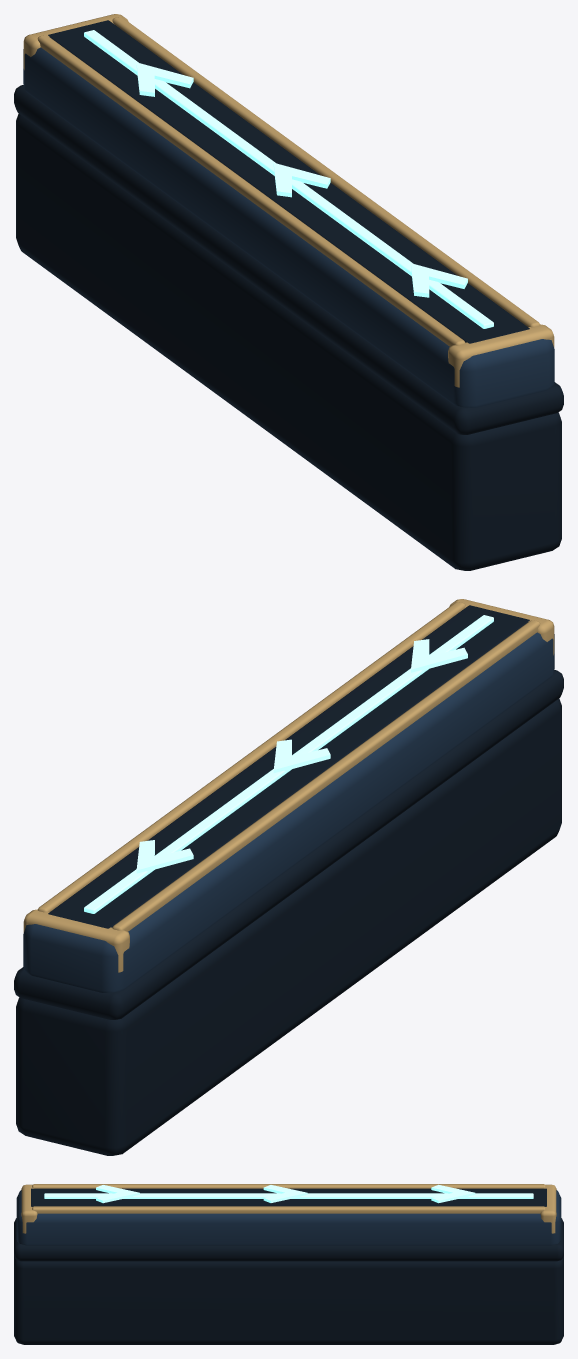
Rendered from lumo_guide_ribbon_2m.glb.
The picture shows the model from 3 angles, top to bottom: view 1: azimuth 30°, elevation 25°; view 2: azimuth 150°, elevation 25°; view 3: azimuth 270°, elevation 25°; orthographic projection. The views are drawn at different scales.
Visible parts, largest first — view 1: lumo_guide_ribbon_2m; view 2: lumo_guide_ribbon_2m; view 3: lumo_guide_ribbon_2m.
Part boxes in pixels (bbox=[...]): lumo_guide_ribbon_2m: bbox=[14, 14, 563, 570]; lumo_guide_ribbon_2m: bbox=[14, 599, 563, 1155]; lumo_guide_ribbon_2m: bbox=[14, 1184, 563, 1344].
Size of the model in its own units: 0.28 by 0.56 by 2.
